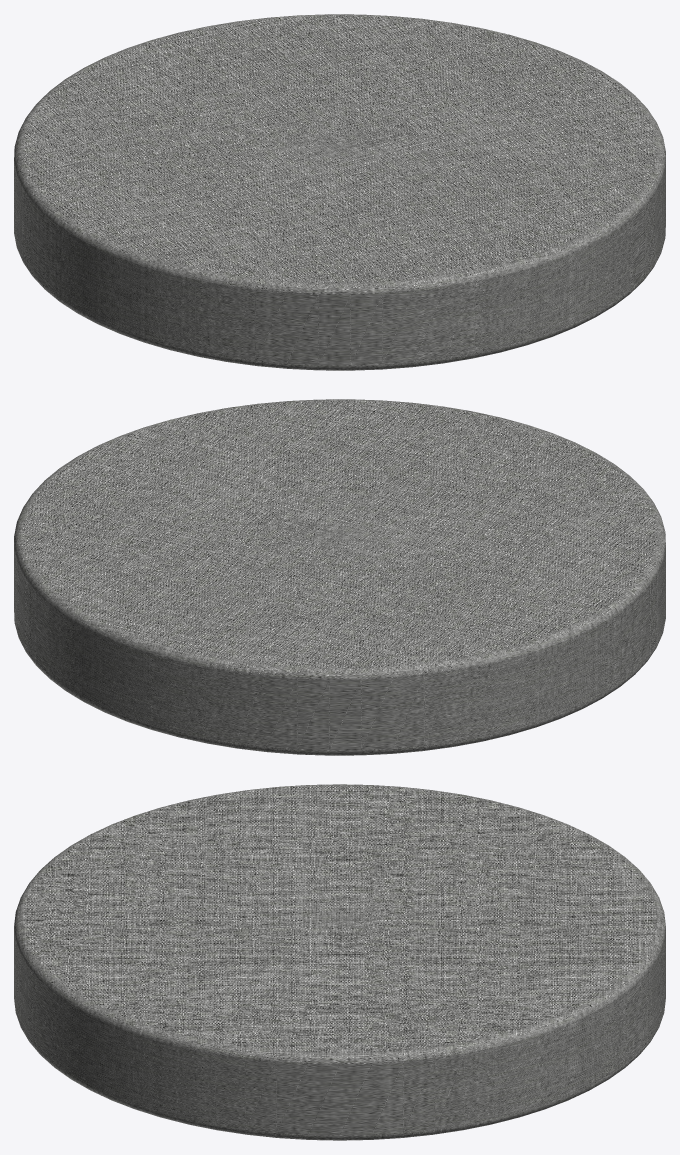
File: lobbySofa.glb
The picture shows the model from 3 angles, top to bottom: view 1: azimuth 30°, elevation 25°; view 2: azimuth 150°, elevation 25°; view 3: azimuth 270°, elevation 25°; orthographic projection.
Parts seen in each view (by area): view 1: Cylinder; view 2: Cylinder; view 3: Cylinder.
Part boxes in pixels (x1,y1,x2,y2): Cylinder: (14, 14, 665, 370); Cylinder: (14, 399, 665, 755); Cylinder: (14, 784, 665, 1140).
Size of the model in its own units: 0.7576 by 0.1108 by 0.7576.
Materials: 1 (1 with a texture image).
